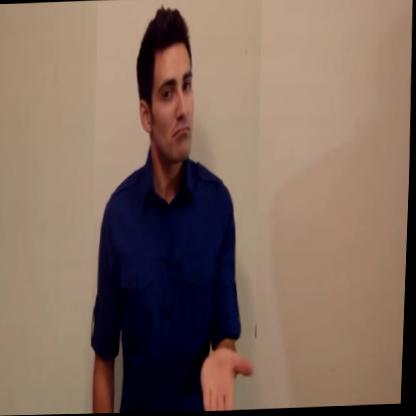ThankYou: (85, 0, 268, 414)
